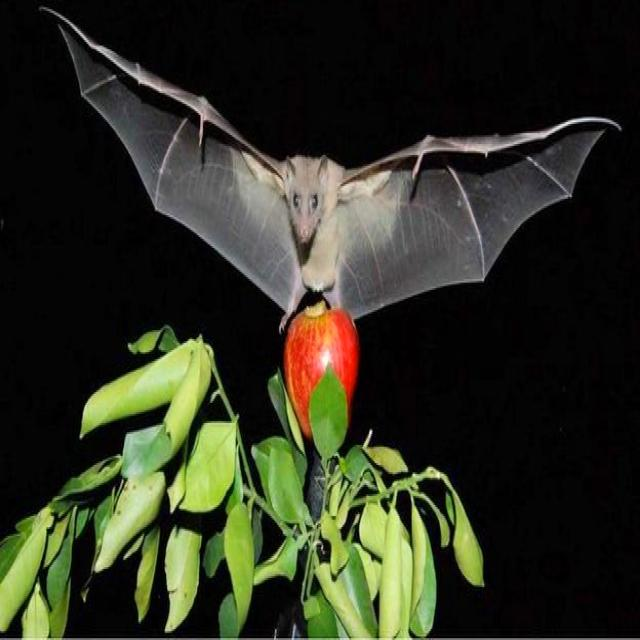bat: (42, 7, 619, 330)
